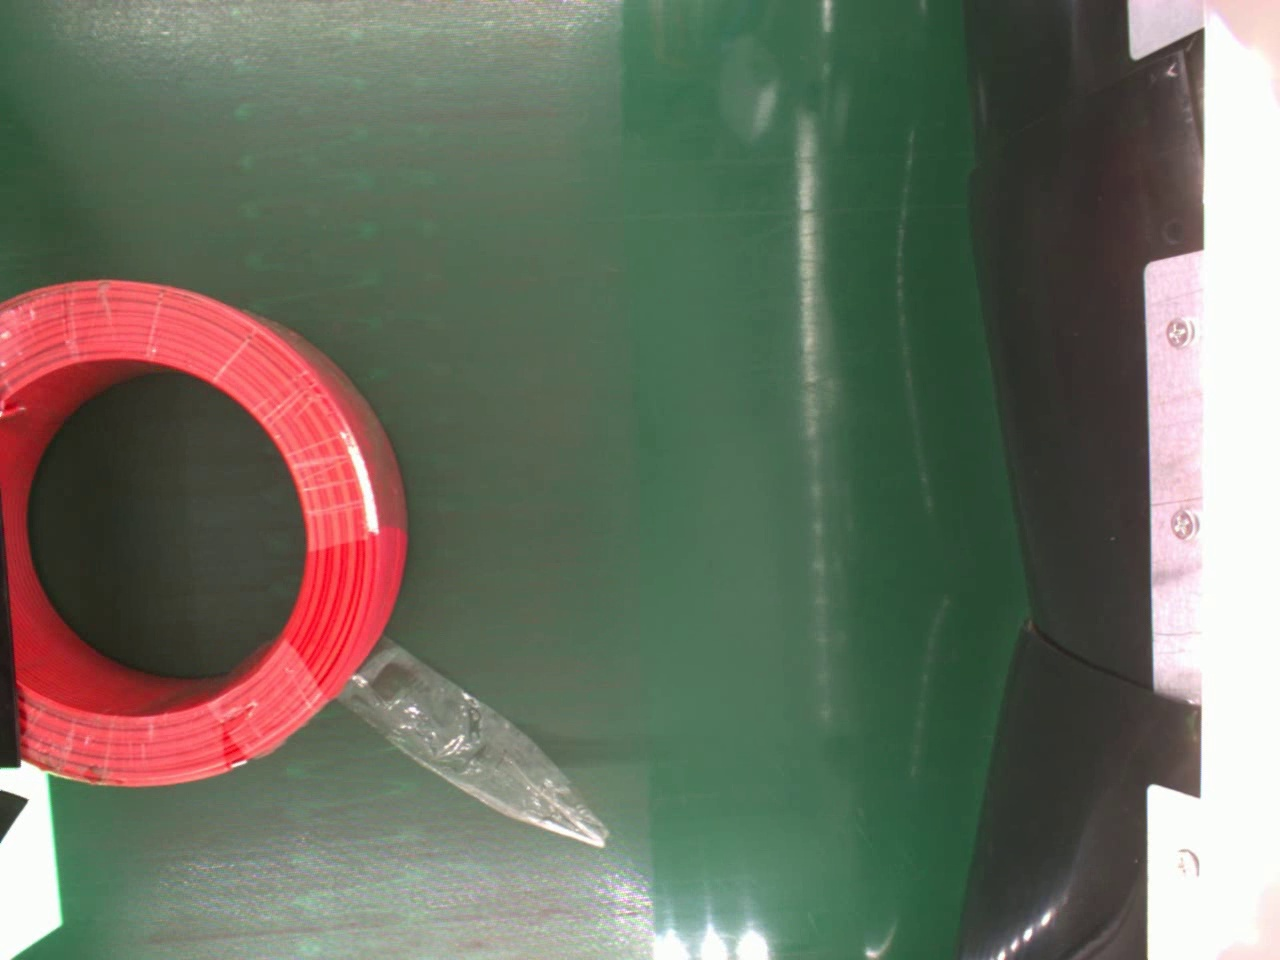red: (0, 278, 410, 786)
